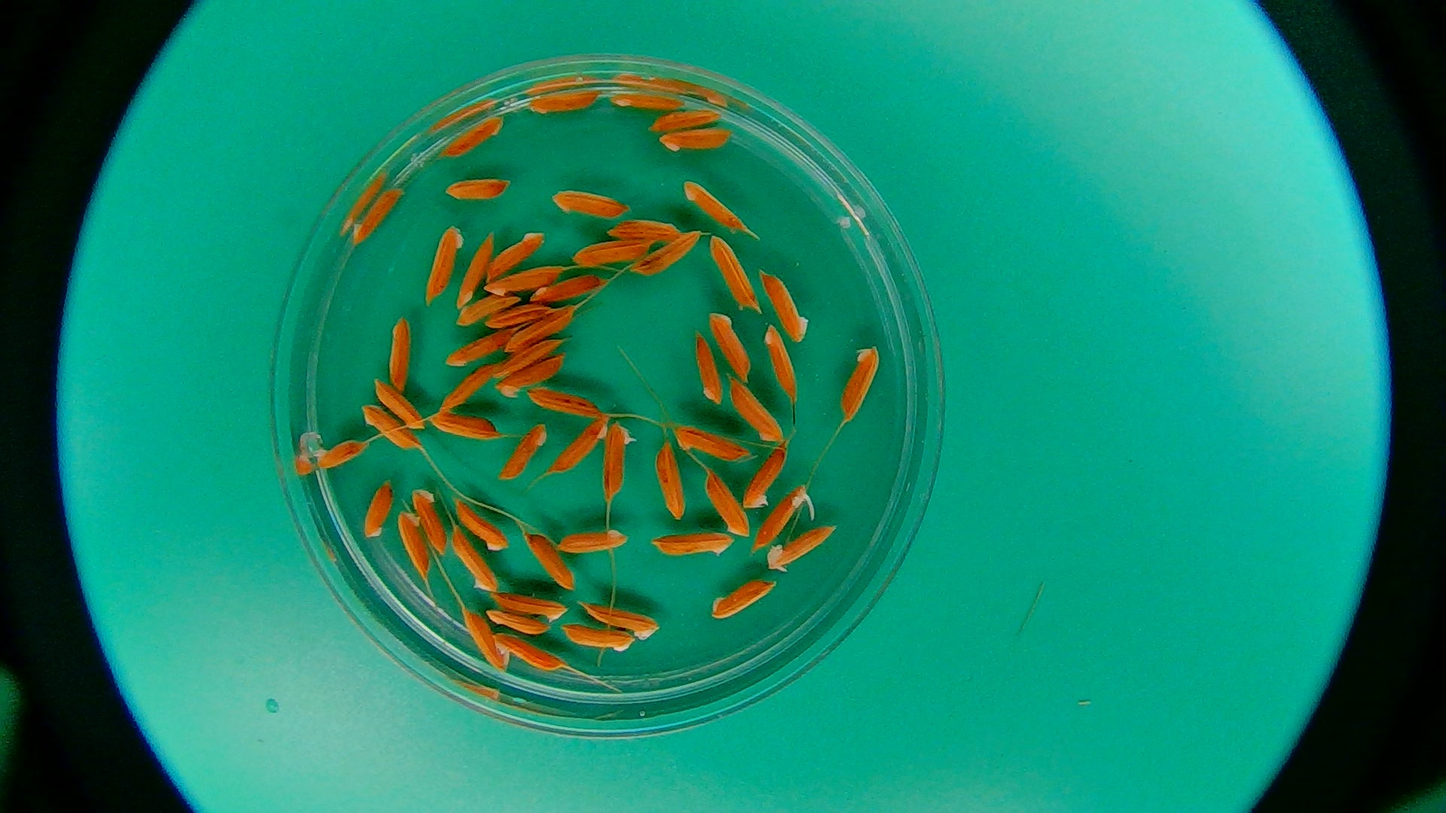no: (709, 231, 765, 315), (758, 266, 810, 343), (679, 174, 749, 231), (505, 303, 576, 357), (579, 598, 664, 643), (626, 229, 706, 276), (421, 221, 465, 306), (740, 438, 789, 512), (458, 607, 511, 674), (551, 415, 609, 476), (495, 421, 552, 483), (485, 229, 548, 285), (840, 341, 882, 425), (494, 352, 569, 399), (452, 494, 511, 553), (520, 531, 578, 591), (702, 466, 751, 537), (706, 308, 753, 382), (438, 358, 499, 415), (349, 186, 404, 248), (449, 525, 499, 593), (453, 230, 492, 315), (670, 422, 751, 462), (490, 632, 565, 675), (526, 383, 610, 421), (408, 484, 450, 558), (490, 338, 563, 380), (569, 233, 654, 269), (443, 328, 517, 369), (372, 376, 426, 432), (708, 577, 779, 619), (654, 437, 689, 522), (440, 113, 506, 157), (763, 324, 799, 404), (490, 587, 568, 623), (426, 410, 508, 444), (361, 402, 417, 450), (395, 507, 431, 580), (483, 266, 565, 298), (692, 327, 725, 406), (560, 620, 634, 653), (650, 529, 734, 558), (548, 190, 632, 218), (529, 274, 606, 303), (456, 294, 521, 327), (554, 527, 627, 556), (386, 315, 413, 393), (604, 215, 682, 242), (659, 126, 733, 154), (648, 106, 724, 133), (443, 177, 514, 205), (313, 438, 372, 471), (484, 607, 551, 636), (363, 480, 395, 540), (529, 88, 600, 115), (486, 304, 557, 330), (609, 88, 688, 111)
yes: (755, 483, 814, 550), (764, 523, 839, 574), (599, 419, 637, 496)
